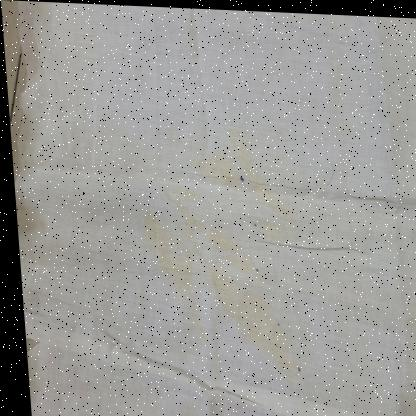spot: (156, 102, 304, 381), (136, 193, 210, 347), (180, 136, 243, 191)
